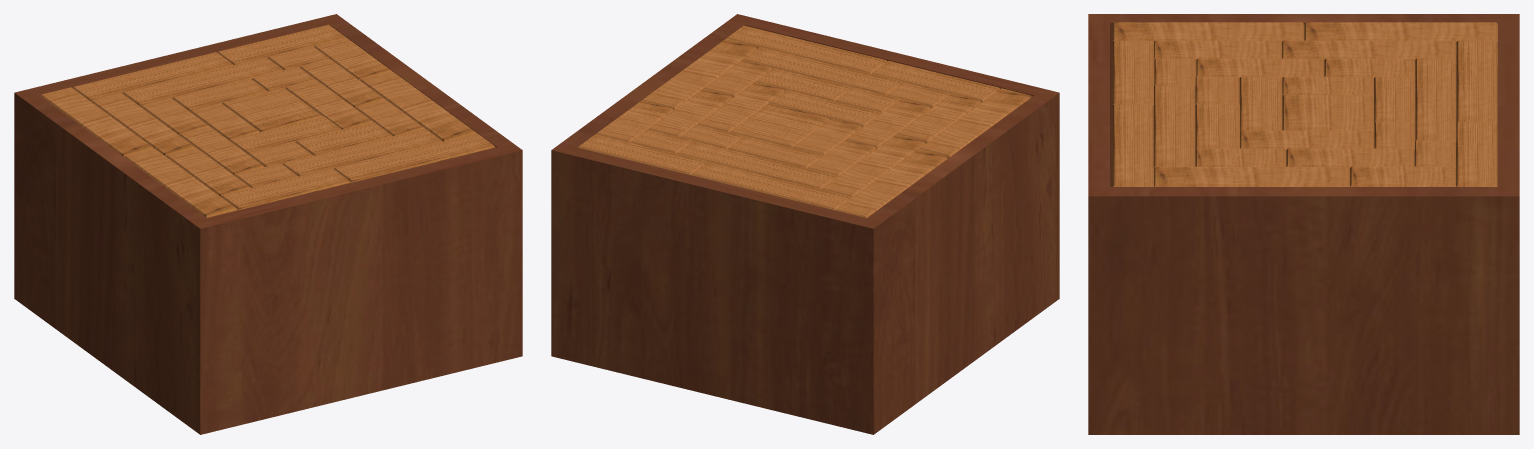
The picture shows the model from 3 angles, left to right: view 1: azimuth 30°, elevation 25°; view 2: azimuth 150°, elevation 25°; view 3: azimuth 270°, elevation 25°; orthographic projection. The views are drawn at different scales.
Parts seen in each view (by area): view 1: box; view 2: box; view 3: box.
Part boxes in pixels (<box>): box: <box>14,14,522,434</box>; box: <box>551,14,1059,434</box>; box: <box>1088,14,1519,434</box>.
Bounding box in the file's own units: 2 × 1.23 × 2.
Materials: 6 (6 with a texture image).
